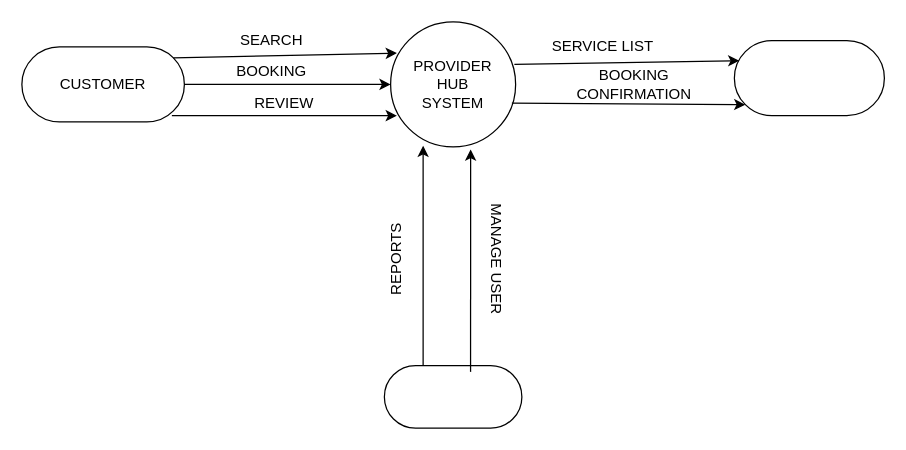
Some shapes in this 906 by 450 pixel diagram are drawn without their labels. The shapes that lost their labels are listed below. From the top down, each one's centre as x and y in pixels, then its label:
the point at 808,77: SERVICE PROVIDER
the point at 452,396: ADMIN
